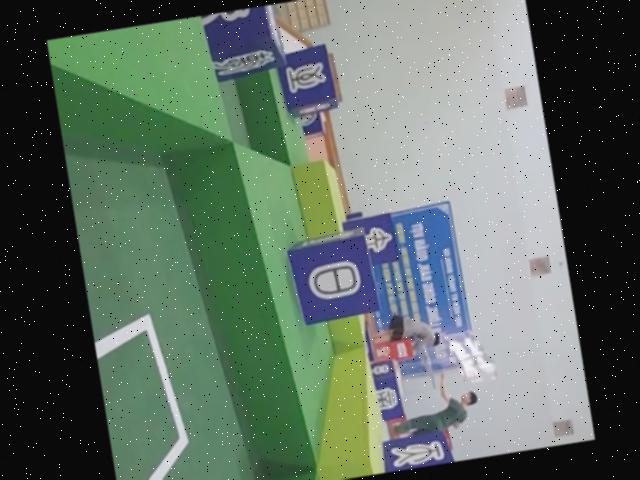R2 Fake Blue: (280, 229, 377, 329), (194, 4, 287, 83), (274, 43, 340, 117), (375, 426, 456, 473), (340, 212, 397, 269), (368, 359, 404, 424)
